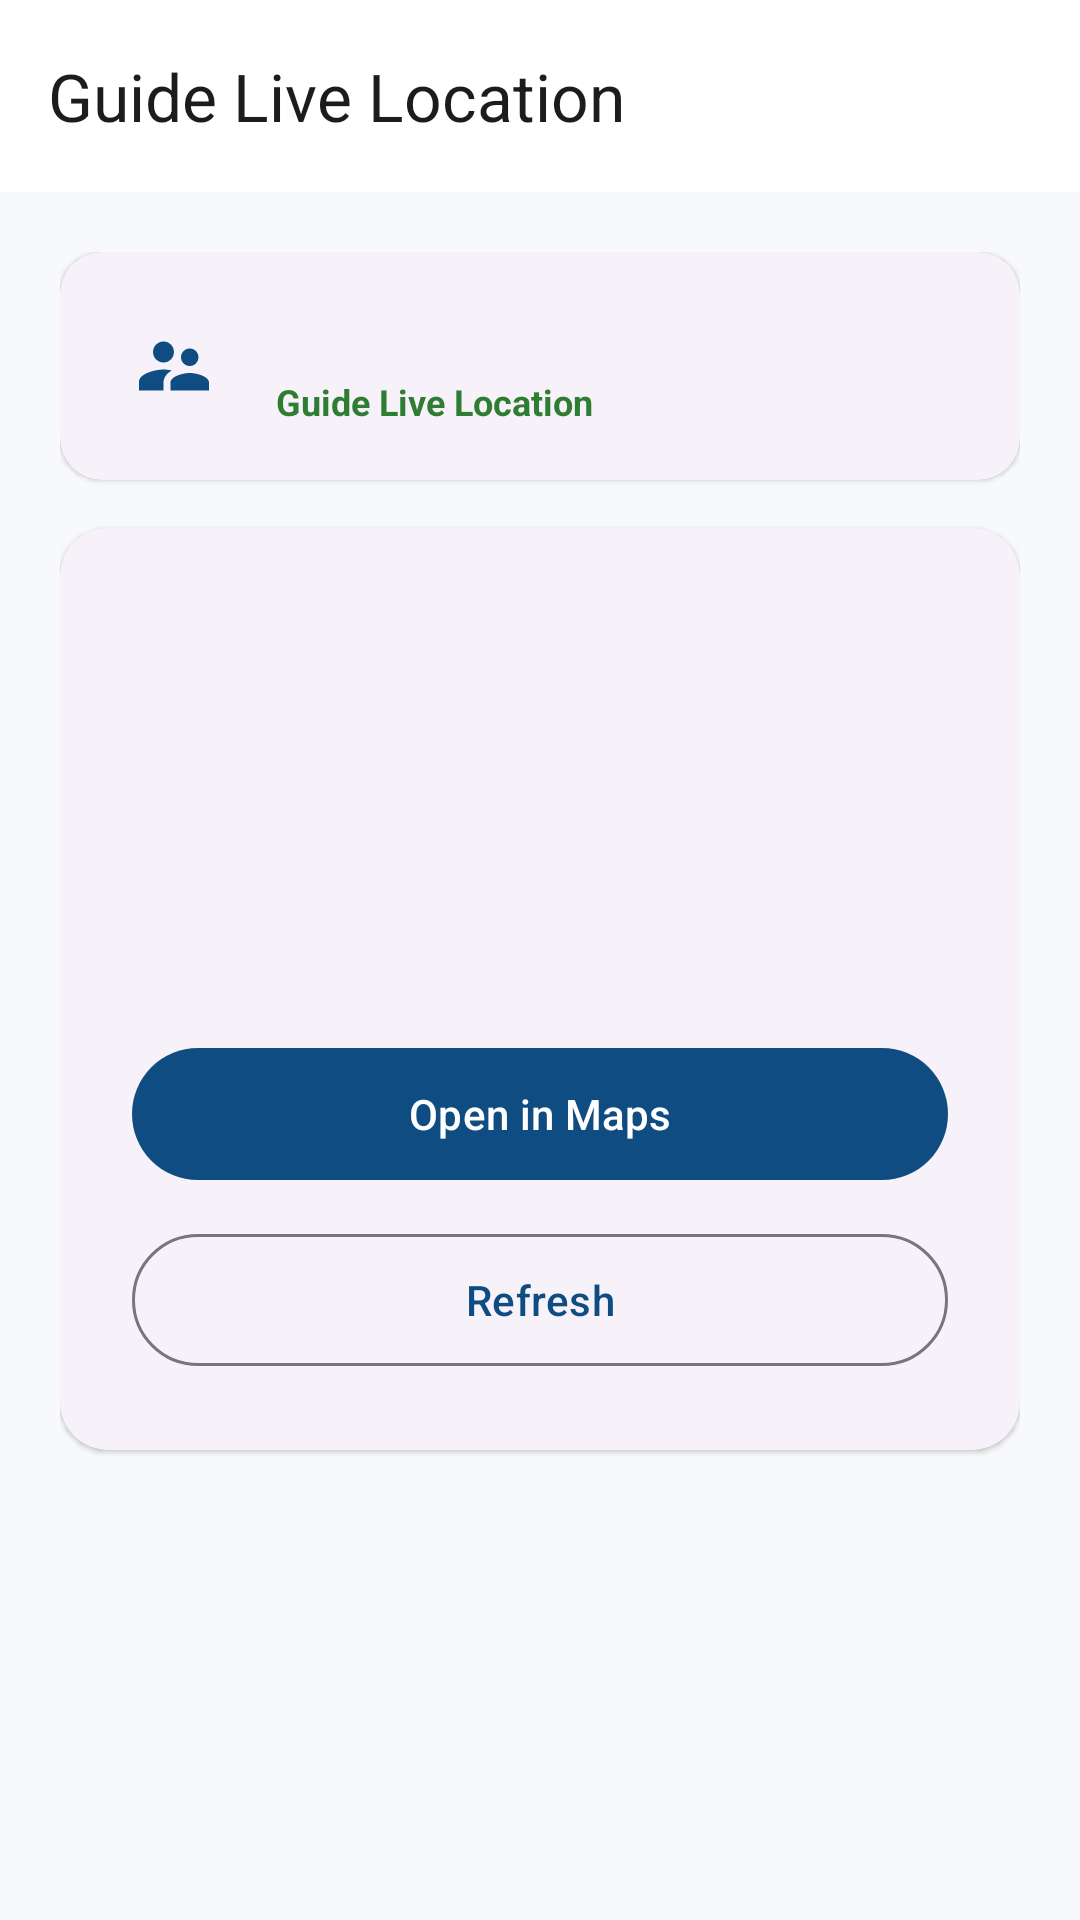

Point at icon controls on the screen. Image size 1080px×1920px, points as (x=x, y=y).
guides: (x=174, y=366)
